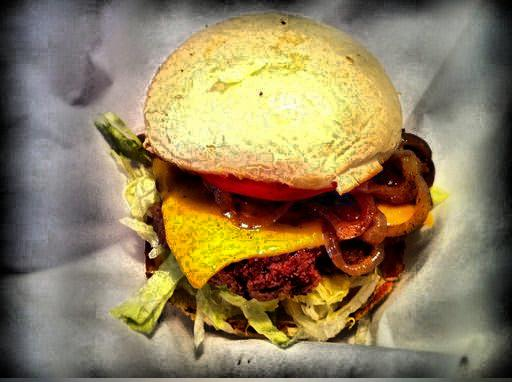burger: (132, 21, 433, 338)
